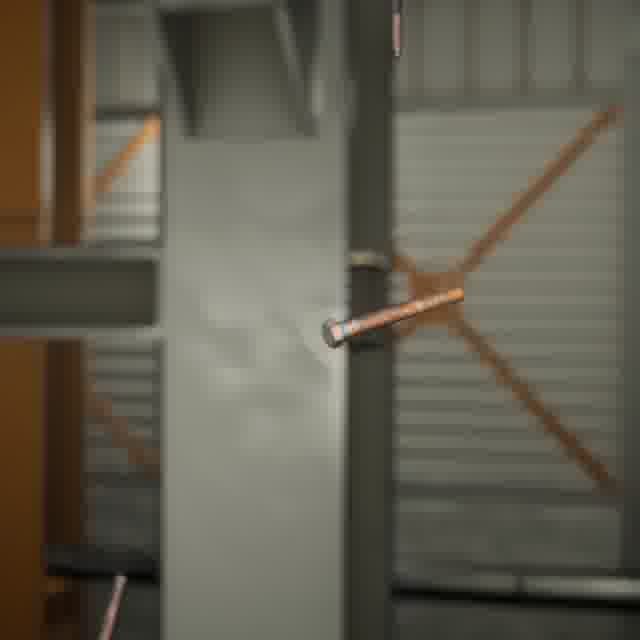bolt: (317, 281, 469, 353), (93, 570, 132, 640), (383, 0, 410, 63)
